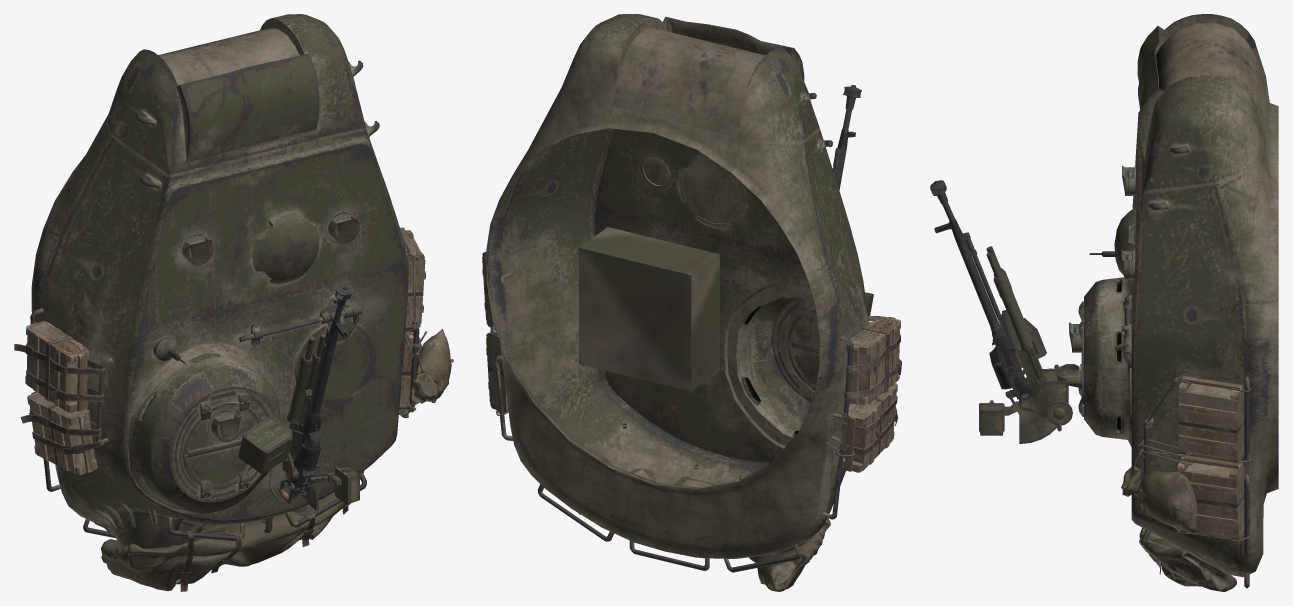
Rendered from Turret_01.glb.
3 views of the same model, side by side, from view 1: azimuth 30°, elevation 25°; view 2: azimuth 150°, elevation 25°; view 3: azimuth 270°, elevation 25° (orthographic).
Visible parts, largest first — view 1: set_0_group_0, set_0_group_1; view 2: set_0_group_0, set_0_group_1; view 3: set_0_group_0, set_0_group_1.
Boxes of the visible parts, x1=… form: set_0_group_0: x1=30, y1=14, x2=419, y2=548; set_0_group_1: x1=14, y1=227, x2=453, y2=591; set_0_group_0: x1=485, y1=14, x2=880, y2=572; set_0_group_1: x1=482, y1=85, x2=901, y2=591; set_0_group_0: x1=1069, y1=14, x2=1278, y2=588; set_0_group_1: x1=930, y1=180, x2=1251, y2=591.
Size of the model in its own units: 2.63 by 3.26 by 1.97.
Materials: 2 (2 with a texture image).
